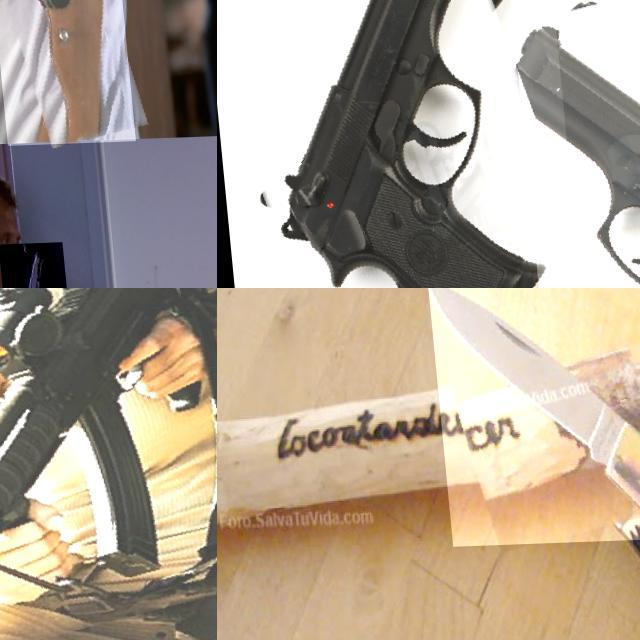-: (422, 288, 640, 548)
gun-knife-thesis - v11 Yolov5 augmented: (217, 0, 580, 288), (0, 288, 217, 640), (507, 0, 640, 288), (0, 0, 129, 146), (0, 243, 65, 288)
